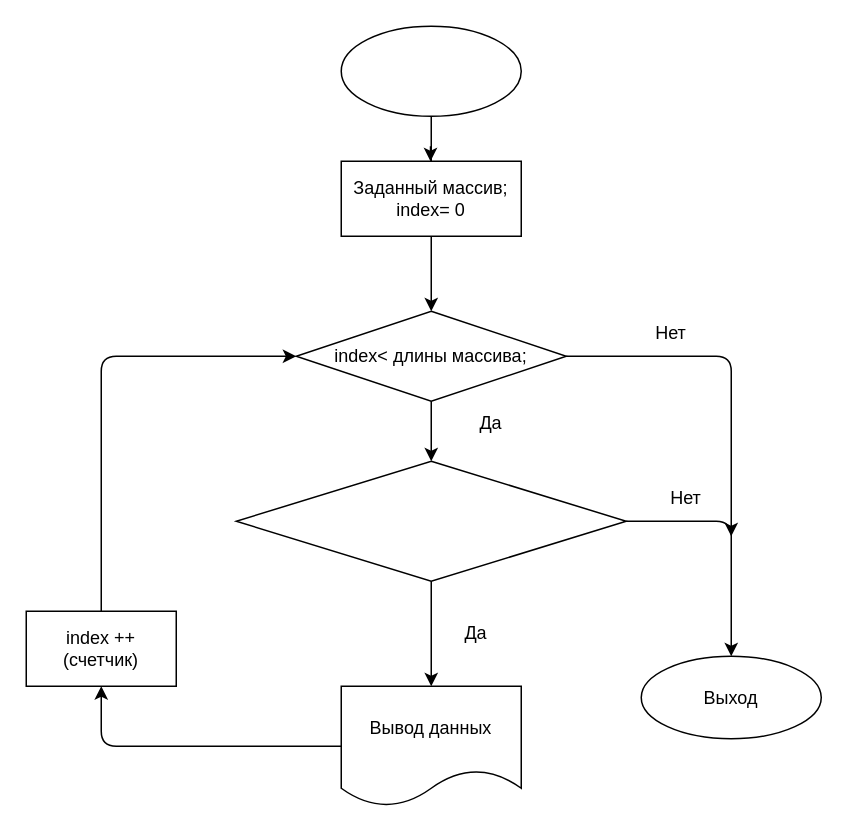
Some shapes in this 848 by 833 pixel diagram are drawn without their labels. Here are the shapes that lost their labels. From the top down, the centre of each, then its label:
the point at 430,70: Начало
the point at 430,520: длина строк массива <= 3
